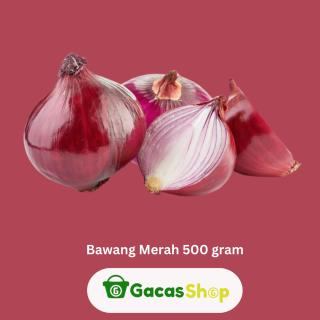Bawang Merah: (24, 53, 148, 194), (138, 96, 238, 197), (224, 78, 302, 178)
